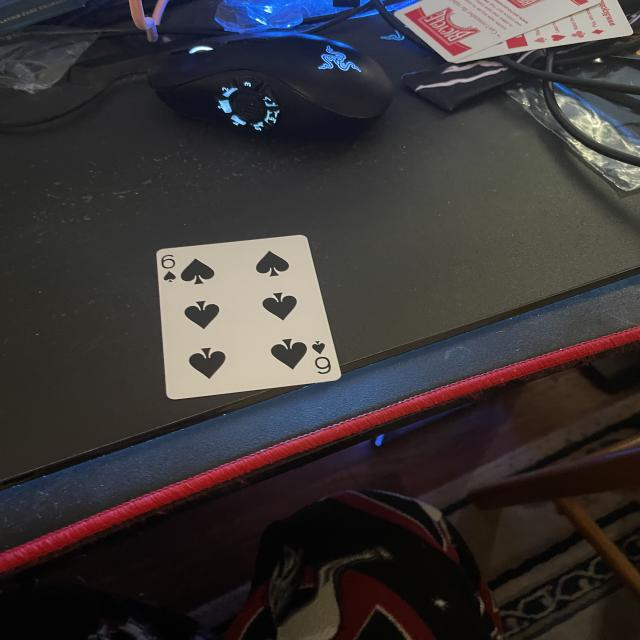6 of spades: (158, 236, 340, 402)
